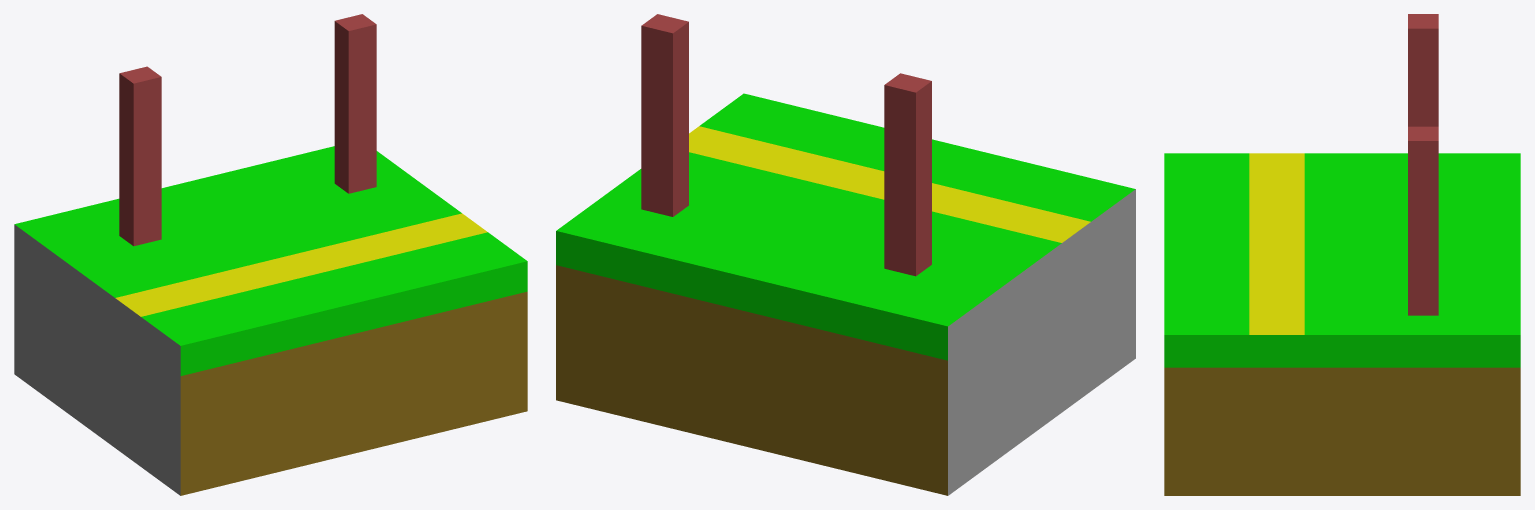
3 renders of one model, left to right at view 1: azimuth 30°, elevation 25°; view 2: azimuth 150°, elevation 25°; view 3: azimuth 270°, elevation 25°, orthographic. The views are drawn at different scales.
Visible parts, largest first — view 1: polySurface20; view 2: polySurface20; view 3: polySurface20.
Boxes of the visible parts, x1,y1,x2,y2 form: polySurface20: [14, 14, 527, 495]; polySurface20: [556, 14, 1135, 495]; polySurface20: [1164, 14, 1520, 495].
Bounding box in the file's own units: 2.66 × 2.29 × 2.21.
